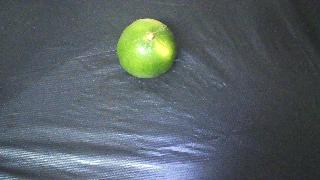LOCAL: (117, 19, 177, 78)
